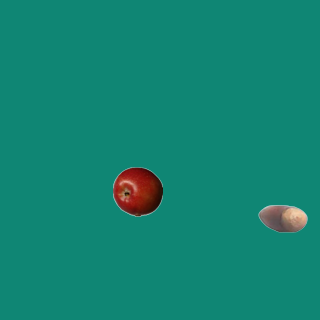Apple Braeburn: (112, 166, 162, 216)
Hazelnut: (257, 193, 307, 243)
